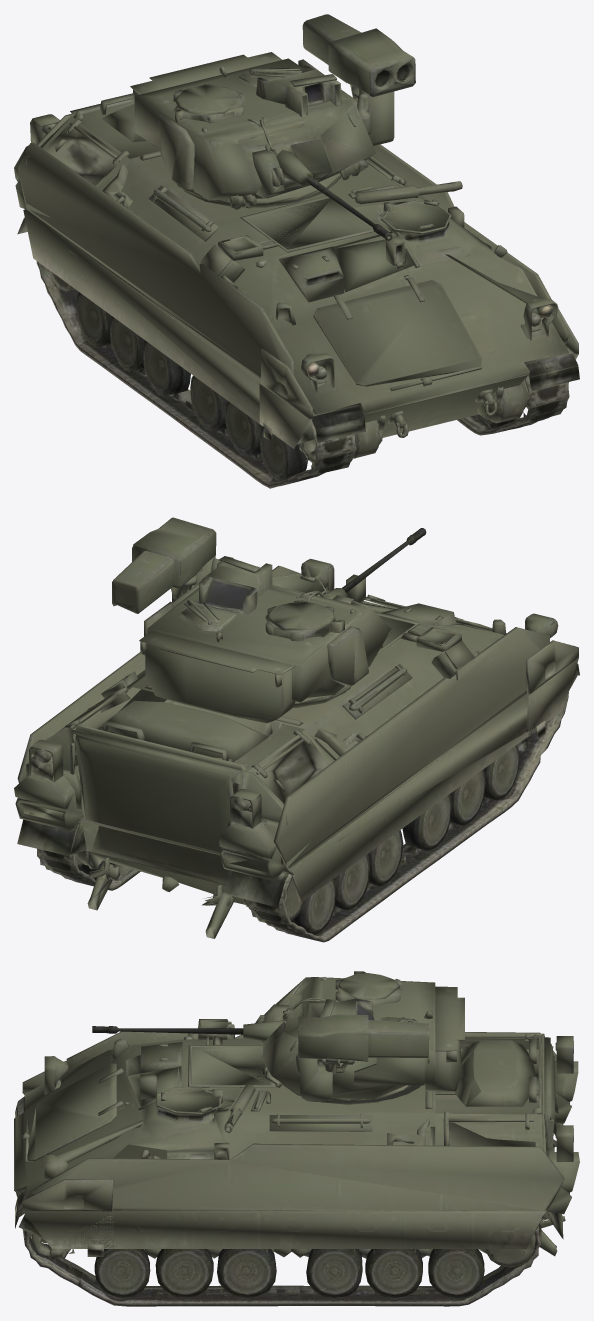
File: ifv.glb
3 renders of one model, top to bottom at view 1: azimuth 30°, elevation 25°; view 2: azimuth 150°, elevation 25°; view 3: azimuth 270°, elevation 25°, orthographic. The views are drawn at different scales.
Visible parts, largest first — view 1: hull, P_turret, P_barrel; view 2: hull, P_turret, P_barrel; view 3: hull, P_turret, P_barrel.
Boxes of the visible parts, box(x1,y1,x2,y2) form: hull: box(14, 41, 579, 488); P_turret: box(130, 14, 452, 245); P_barrel: box(266, 139, 392, 240); hull: box(14, 519, 579, 942); P_turret: box(112, 517, 391, 735); P_barrel: box(320, 528, 426, 599); hull: box(14, 1019, 579, 1306); P_turret: box(140, 971, 480, 1122); P_barrel: box(92, 1008, 288, 1054).
Bounding box in the file's own units: 3.82 × 4 × 7.5.
Materials: 4 (3 with a texture image).
